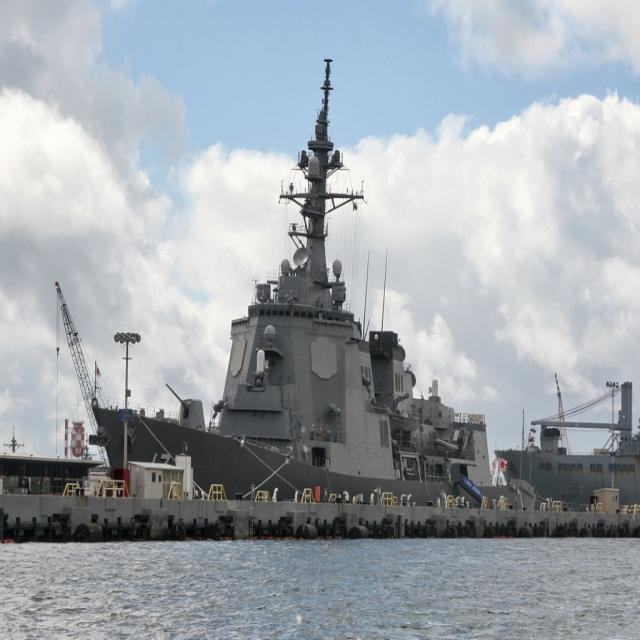Boat: (131, 61, 544, 512), (496, 380, 640, 518)
